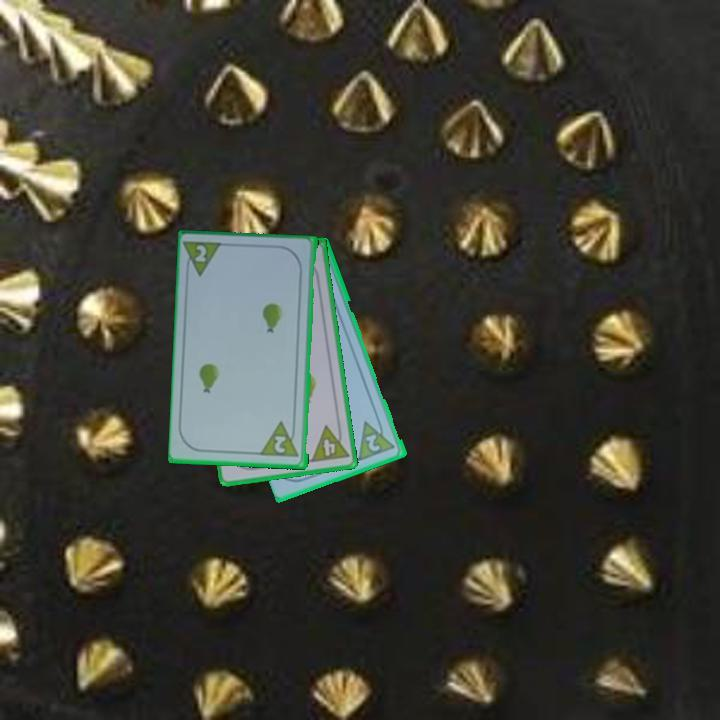2p: (259, 419, 302, 460), (362, 431, 383, 455), (192, 241, 210, 265)
4p: (307, 421, 352, 465)
